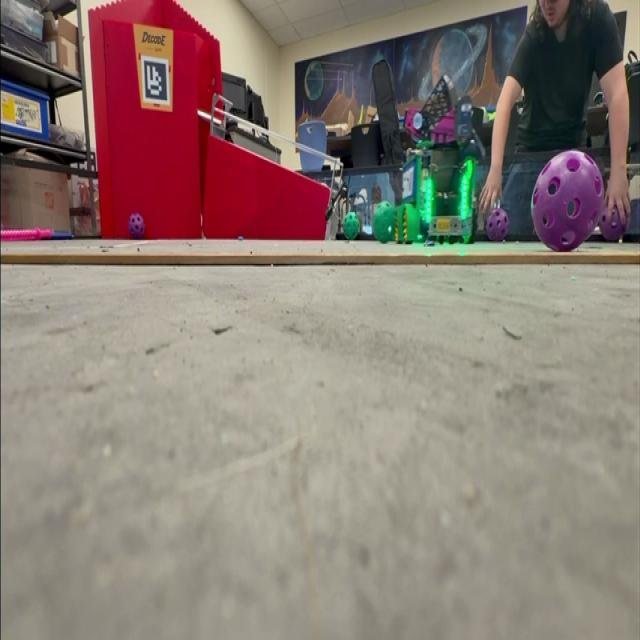artifact_green: (374, 202, 396, 243), (344, 211, 360, 241)
artifact_purple: (532, 151, 604, 251), (599, 203, 629, 242), (487, 207, 508, 241), (129, 214, 145, 238)
